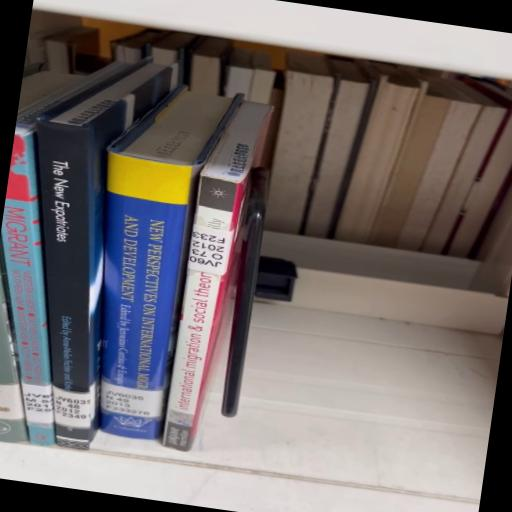reverse: (163, 102, 272, 452)
